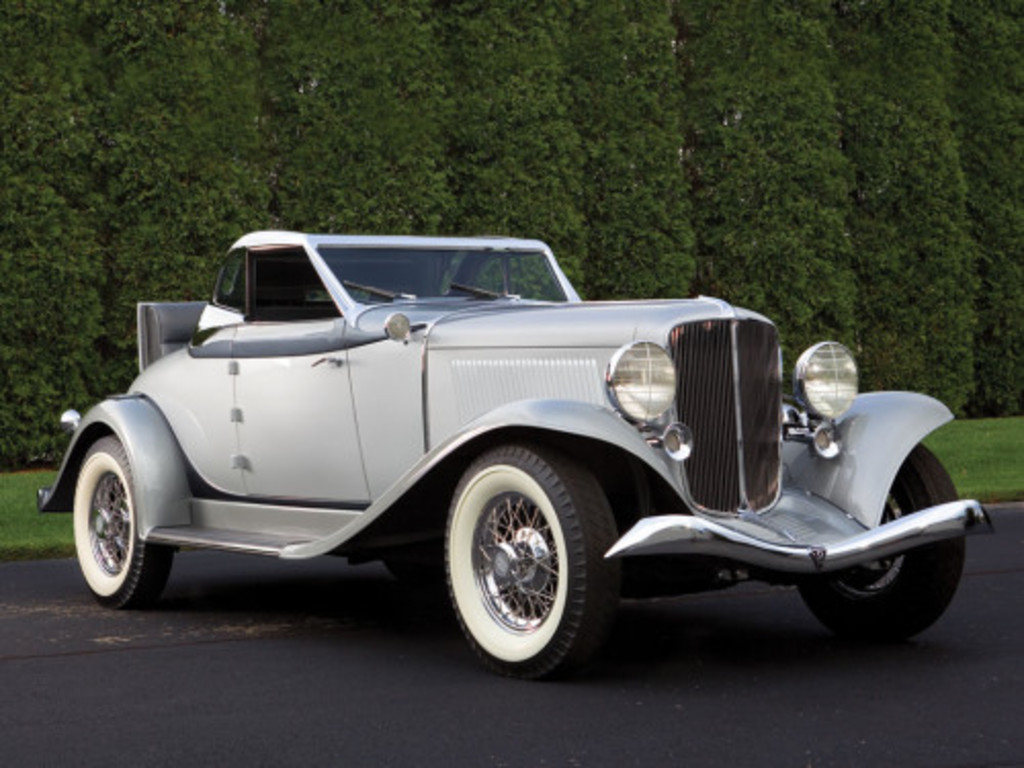Car: (34, 233, 1001, 679)
